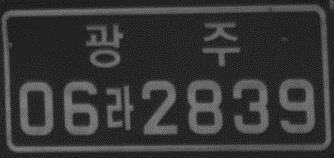0: (16, 79, 55, 138)
2: (139, 78, 179, 138)
3: (229, 76, 270, 136)
6: (62, 78, 99, 138)
8: (185, 78, 225, 137)
9: (277, 76, 316, 135)
광주_D: (83, 19, 241, 70)
라: (103, 84, 136, 133)
